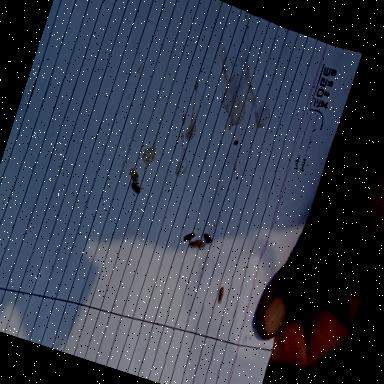pbw: (128, 179, 146, 194), (126, 166, 141, 182), (216, 286, 226, 304), (182, 230, 195, 243), (200, 232, 214, 243)
